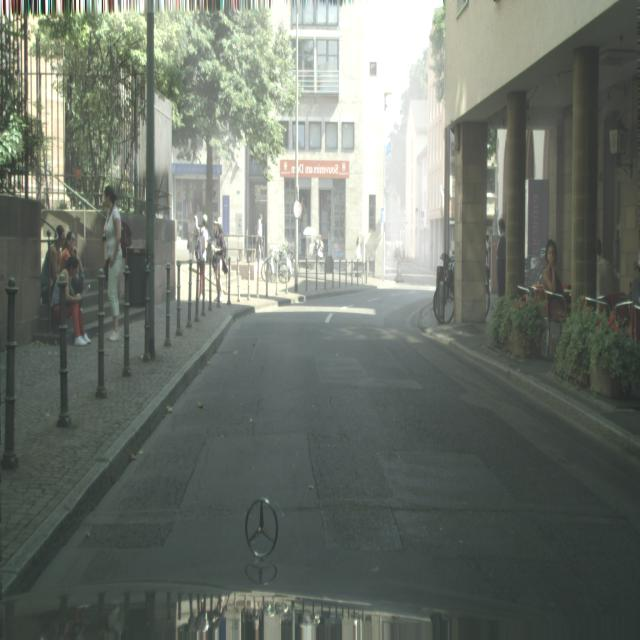car: (431, 248, 458, 328), (261, 243, 293, 282)
person: (49, 228, 91, 342), (102, 185, 123, 342), (541, 239, 571, 317), (211, 220, 228, 304), (196, 214, 209, 302), (496, 217, 506, 297), (256, 212, 263, 260)
